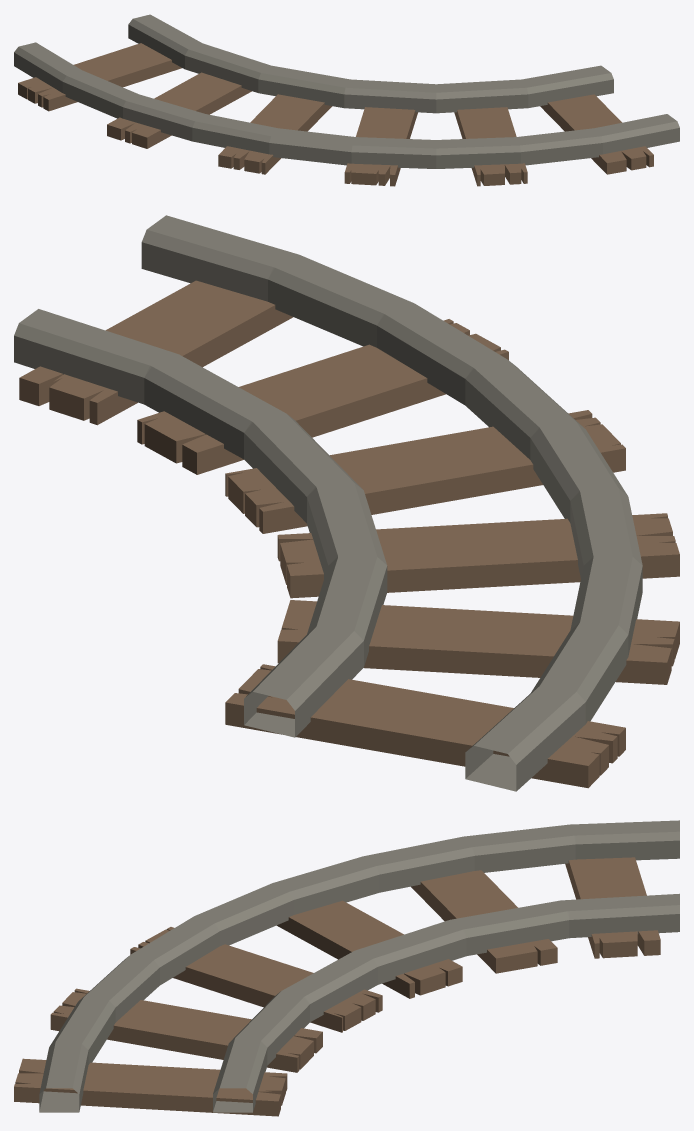
The model's file is Cave_Prop_Railway_Curve_Large.obj.
3 views of the same model, one above another, from view 1: azimuth 30°, elevation 25°; view 2: azimuth 150°, elevation 25°; view 3: azimuth 270°, elevation 25° (orthographic). The views are drawn at different scales.
Visible parts, largest first — view 1: object6, object4, object1, object7, object5, object2, object8, object3; view 2: object6, object4, object5, object7, object1, object8, object3, object2; view 3: object6, object4, object2, object3, object8, object5, object7, object1.
Part boxes in pixels (x1=…): object6: x1=14, y1=42, x2=679, y2=168; object4: x1=128, y1=14, x2=613, y2=113; object1: x1=18, y1=43, x2=181, y2=111; object7: x1=107, y1=72, x2=251, y2=148; object5: x1=218, y1=94, x2=332, y2=174; object2: x1=540, y1=94, x2=653, y2=174; object8: x1=344, y1=107, x2=417, y2=186; object3: x1=454, y1=107, x2=527, y2=186; object6: x1=141, y1=215, x2=642, y2=791; object4: x1=14, y1=309, x2=387, y2=737; object5: x1=277, y1=513, x2=679, y2=598; object7: x1=277, y1=600, x2=679, y2=684; object1: x1=225, y1=664, x2=625, y2=788; object8: x1=225, y1=410, x2=625, y2=533; object3: x1=137, y1=319, x2=508, y2=474; object2: x1=19, y1=280, x2=293, y2=425; object6: x1=39, y1=820, x2=679, y2=1112; object4: x1=213, y1=893, x2=679, y2=1112; object2: x1=14, y1=1058, x2=287, y2=1116; object3: x1=50, y1=988, x2=322, y2=1072; object8: x1=130, y1=927, x2=382, y2=1032; object5: x1=276, y1=900, x2=462, y2=998; object7: x1=411, y1=870, x2=557, y2=973; object1: x1=565, y1=857, x2=660, y2=958.
Size of the model in its own units: 2.49 by 0.15 by 2.49.
